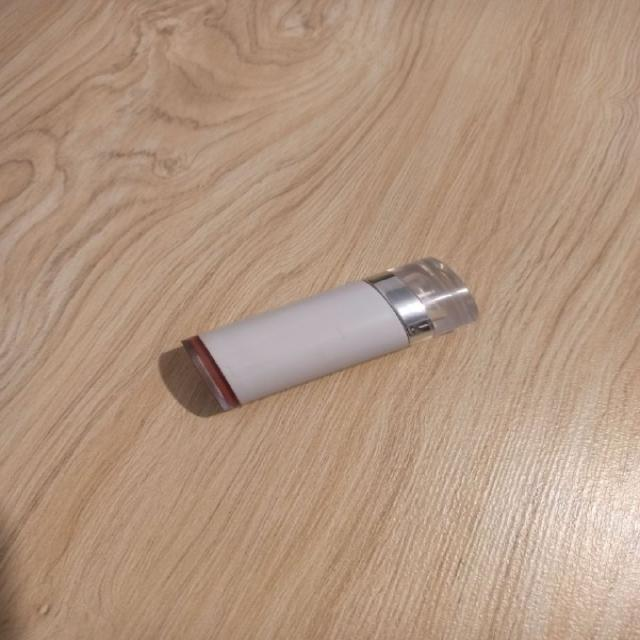lipstick: (179, 255, 478, 412)
